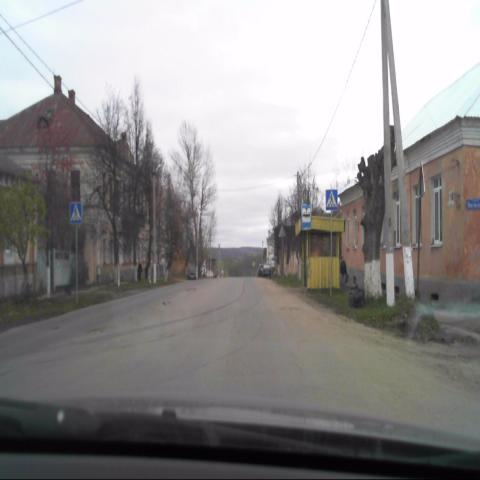5_16: (302, 203, 312, 229)
5_19_1: (69, 202, 84, 227), (326, 189, 338, 210)
